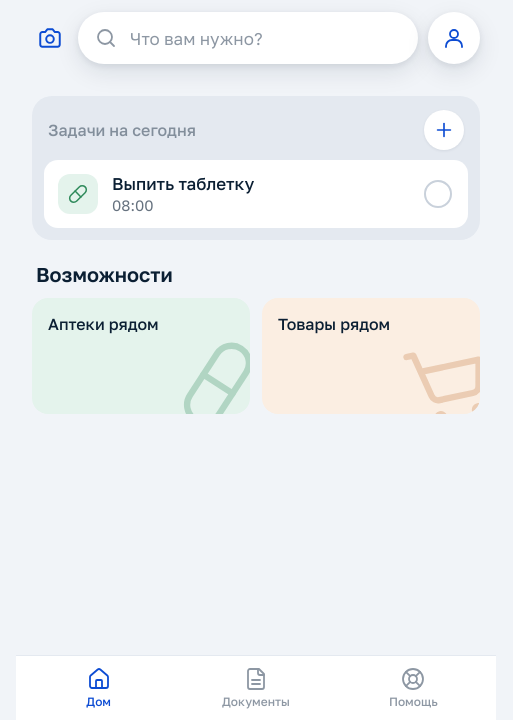
App › плитка открывает возможность, нижнее меню закрывает её
Click the button "Товары рядом" at (371, 356), box [262,298,480,414]
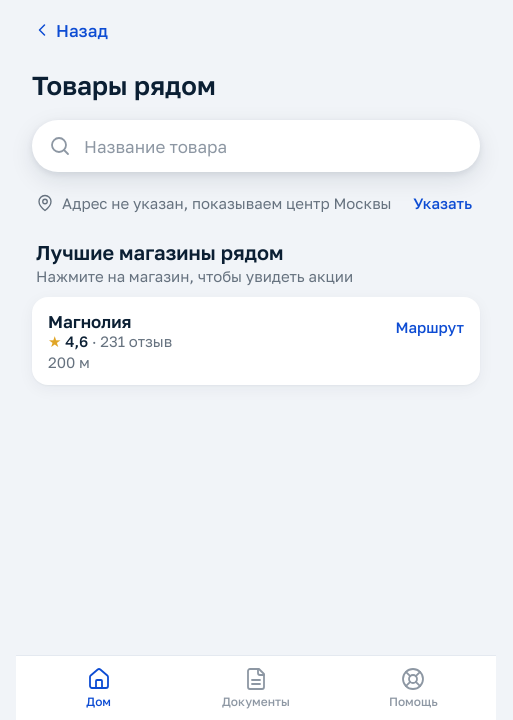
Expected: the heading "Товары рядом" is shown, [32,70,216,101]
Click the button "Помощь" at (413, 688), box [335,662,492,714]
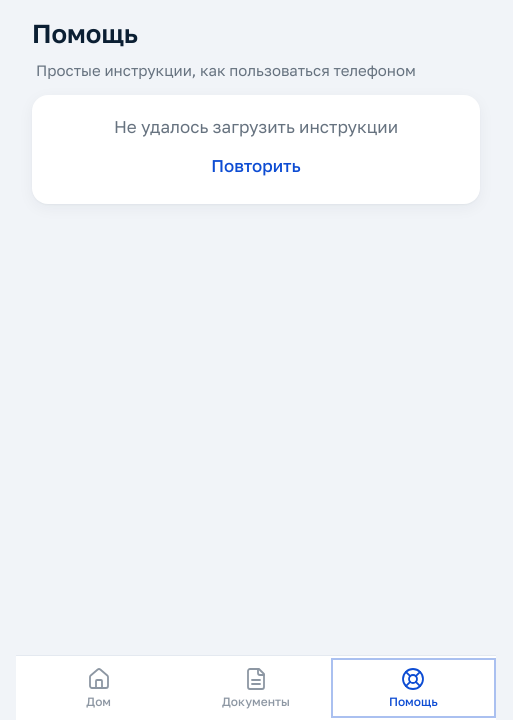
Now the heading "Помощь" is shown, box [32,18,138,49]
